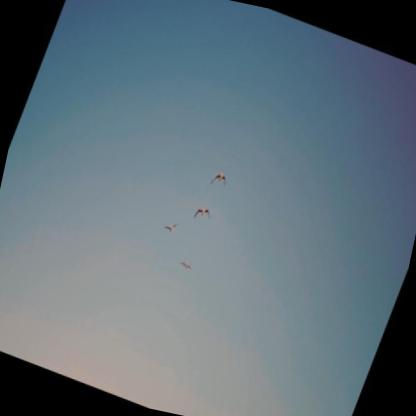bird: (209, 170, 231, 192), (192, 206, 213, 225), (161, 216, 182, 235), (178, 259, 196, 274)
